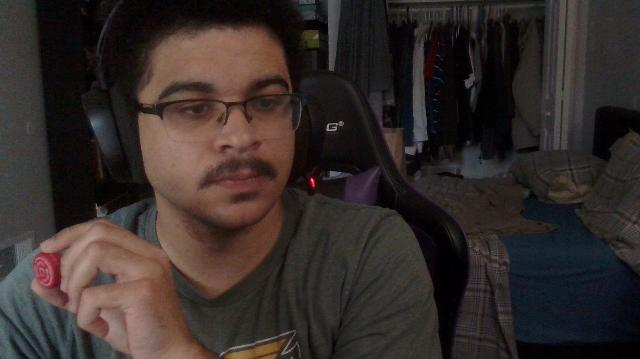cap: (32, 252, 62, 290)
